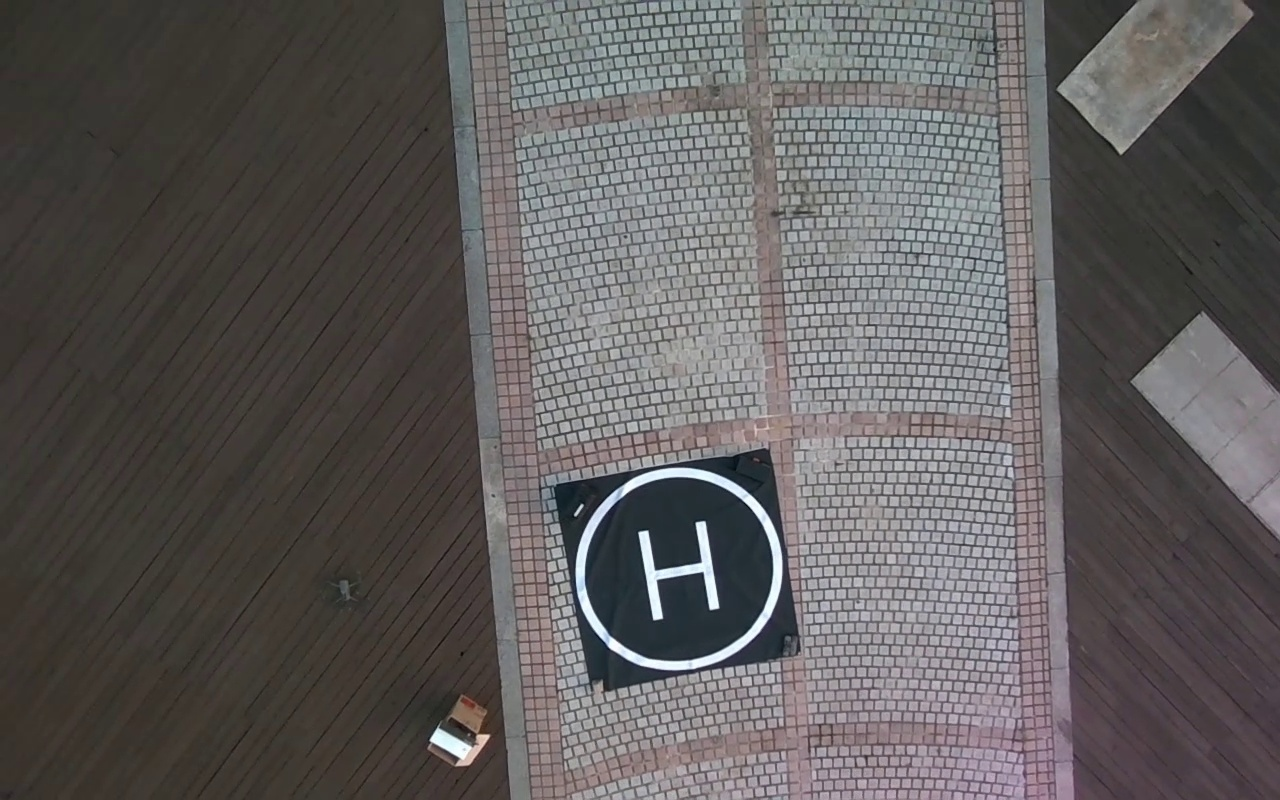H: (638, 518, 720, 621)
heliport: (574, 469, 785, 671)
